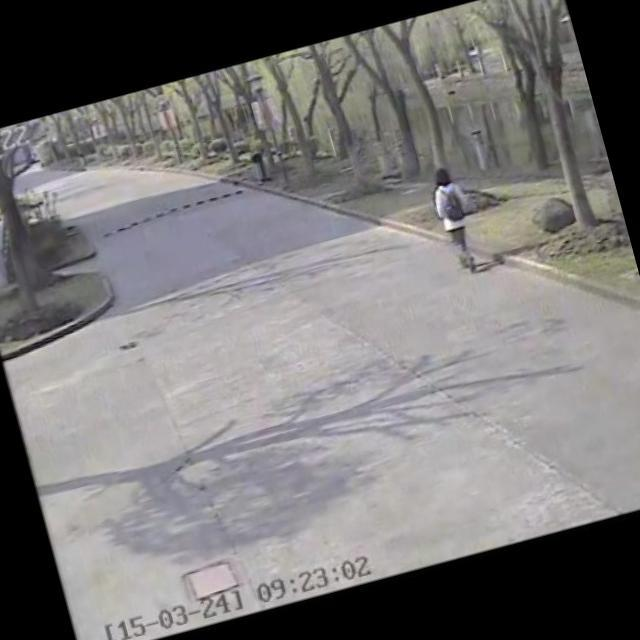person: (417, 150, 491, 284)
